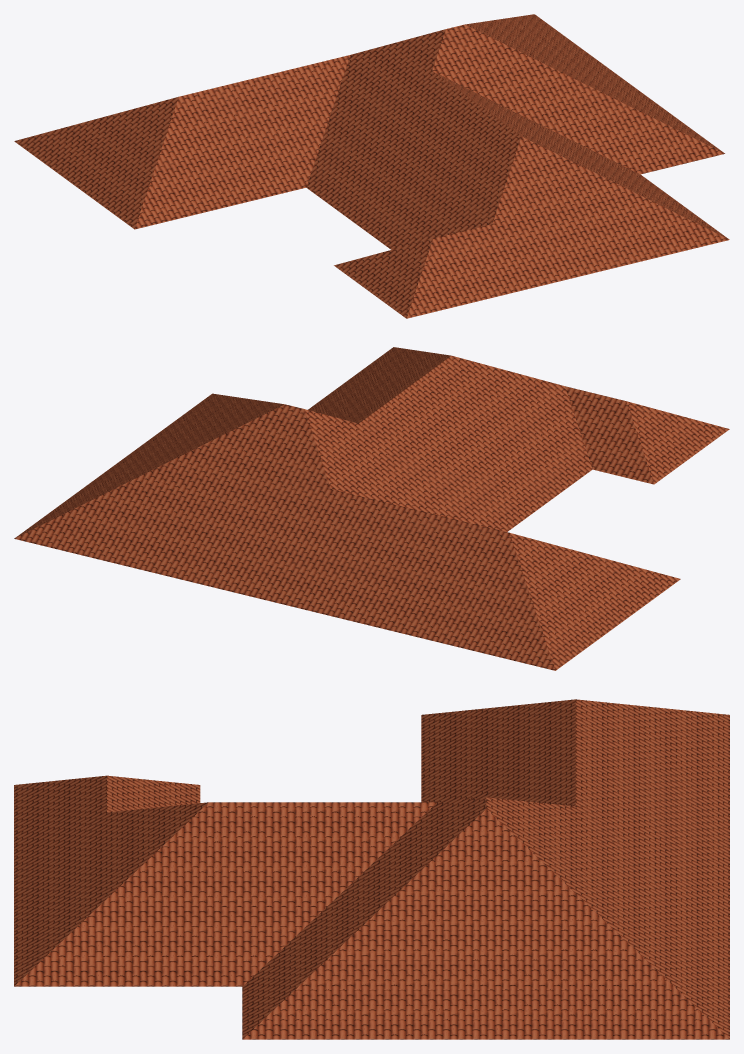
File: telhado38a.dae
3 views of the same model, one above another, from view 1: azimuth 30°, elevation 25°; view 2: azimuth 150°, elevation 25°; view 3: azimuth 270°, elevation 25° (orthographic). The views are drawn at different scales.
Parts seen in each view (by area): view 1: SketchUp; view 2: SketchUp; view 3: SketchUp.
Boxes of the visible parts, x1,y1,x2,y2 form: SketchUp: [14, 14, 729, 318]; SketchUp: [14, 347, 729, 670]; SketchUp: [14, 699, 729, 1039].
Size of the model in its own units: 520 by 484 by 95.18.
3 materials, 1 textured.
